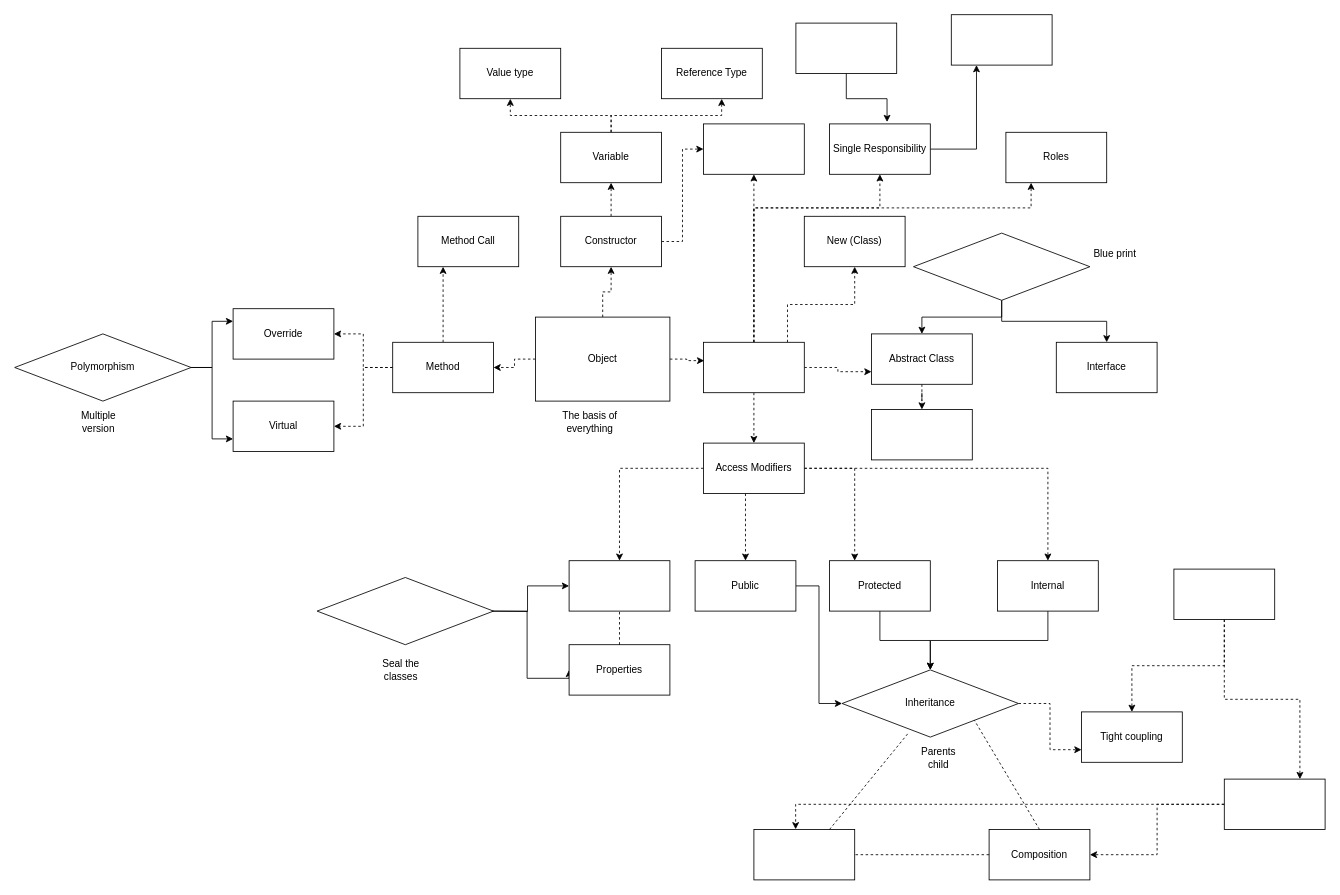
Some shapes in this 1340 by 895 pixel diagram are drawn without their labels. The box of each missing label's shape, as (x1, y1, x2, y2) in pixels:
Abstract Methods: (871, 409, 972, 460)
Abstraction: (913, 232, 1090, 300)
Aggregation: (753, 829, 855, 880)
Class: (703, 341, 804, 393)
Cohension: (950, 14, 1052, 65)
Coupling: (1173, 568, 1275, 620)
Encapsulation: (316, 577, 494, 645)
Field: (703, 123, 804, 174)
Loose coupling: (1223, 778, 1325, 830)
Private: (568, 560, 670, 611)
Responsibilities: (795, 22, 897, 74)
